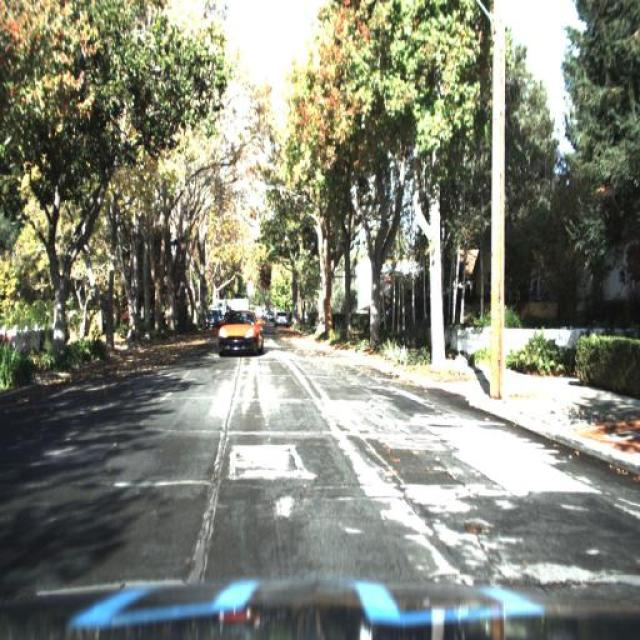car: (213, 305, 263, 359), (272, 307, 294, 331)
